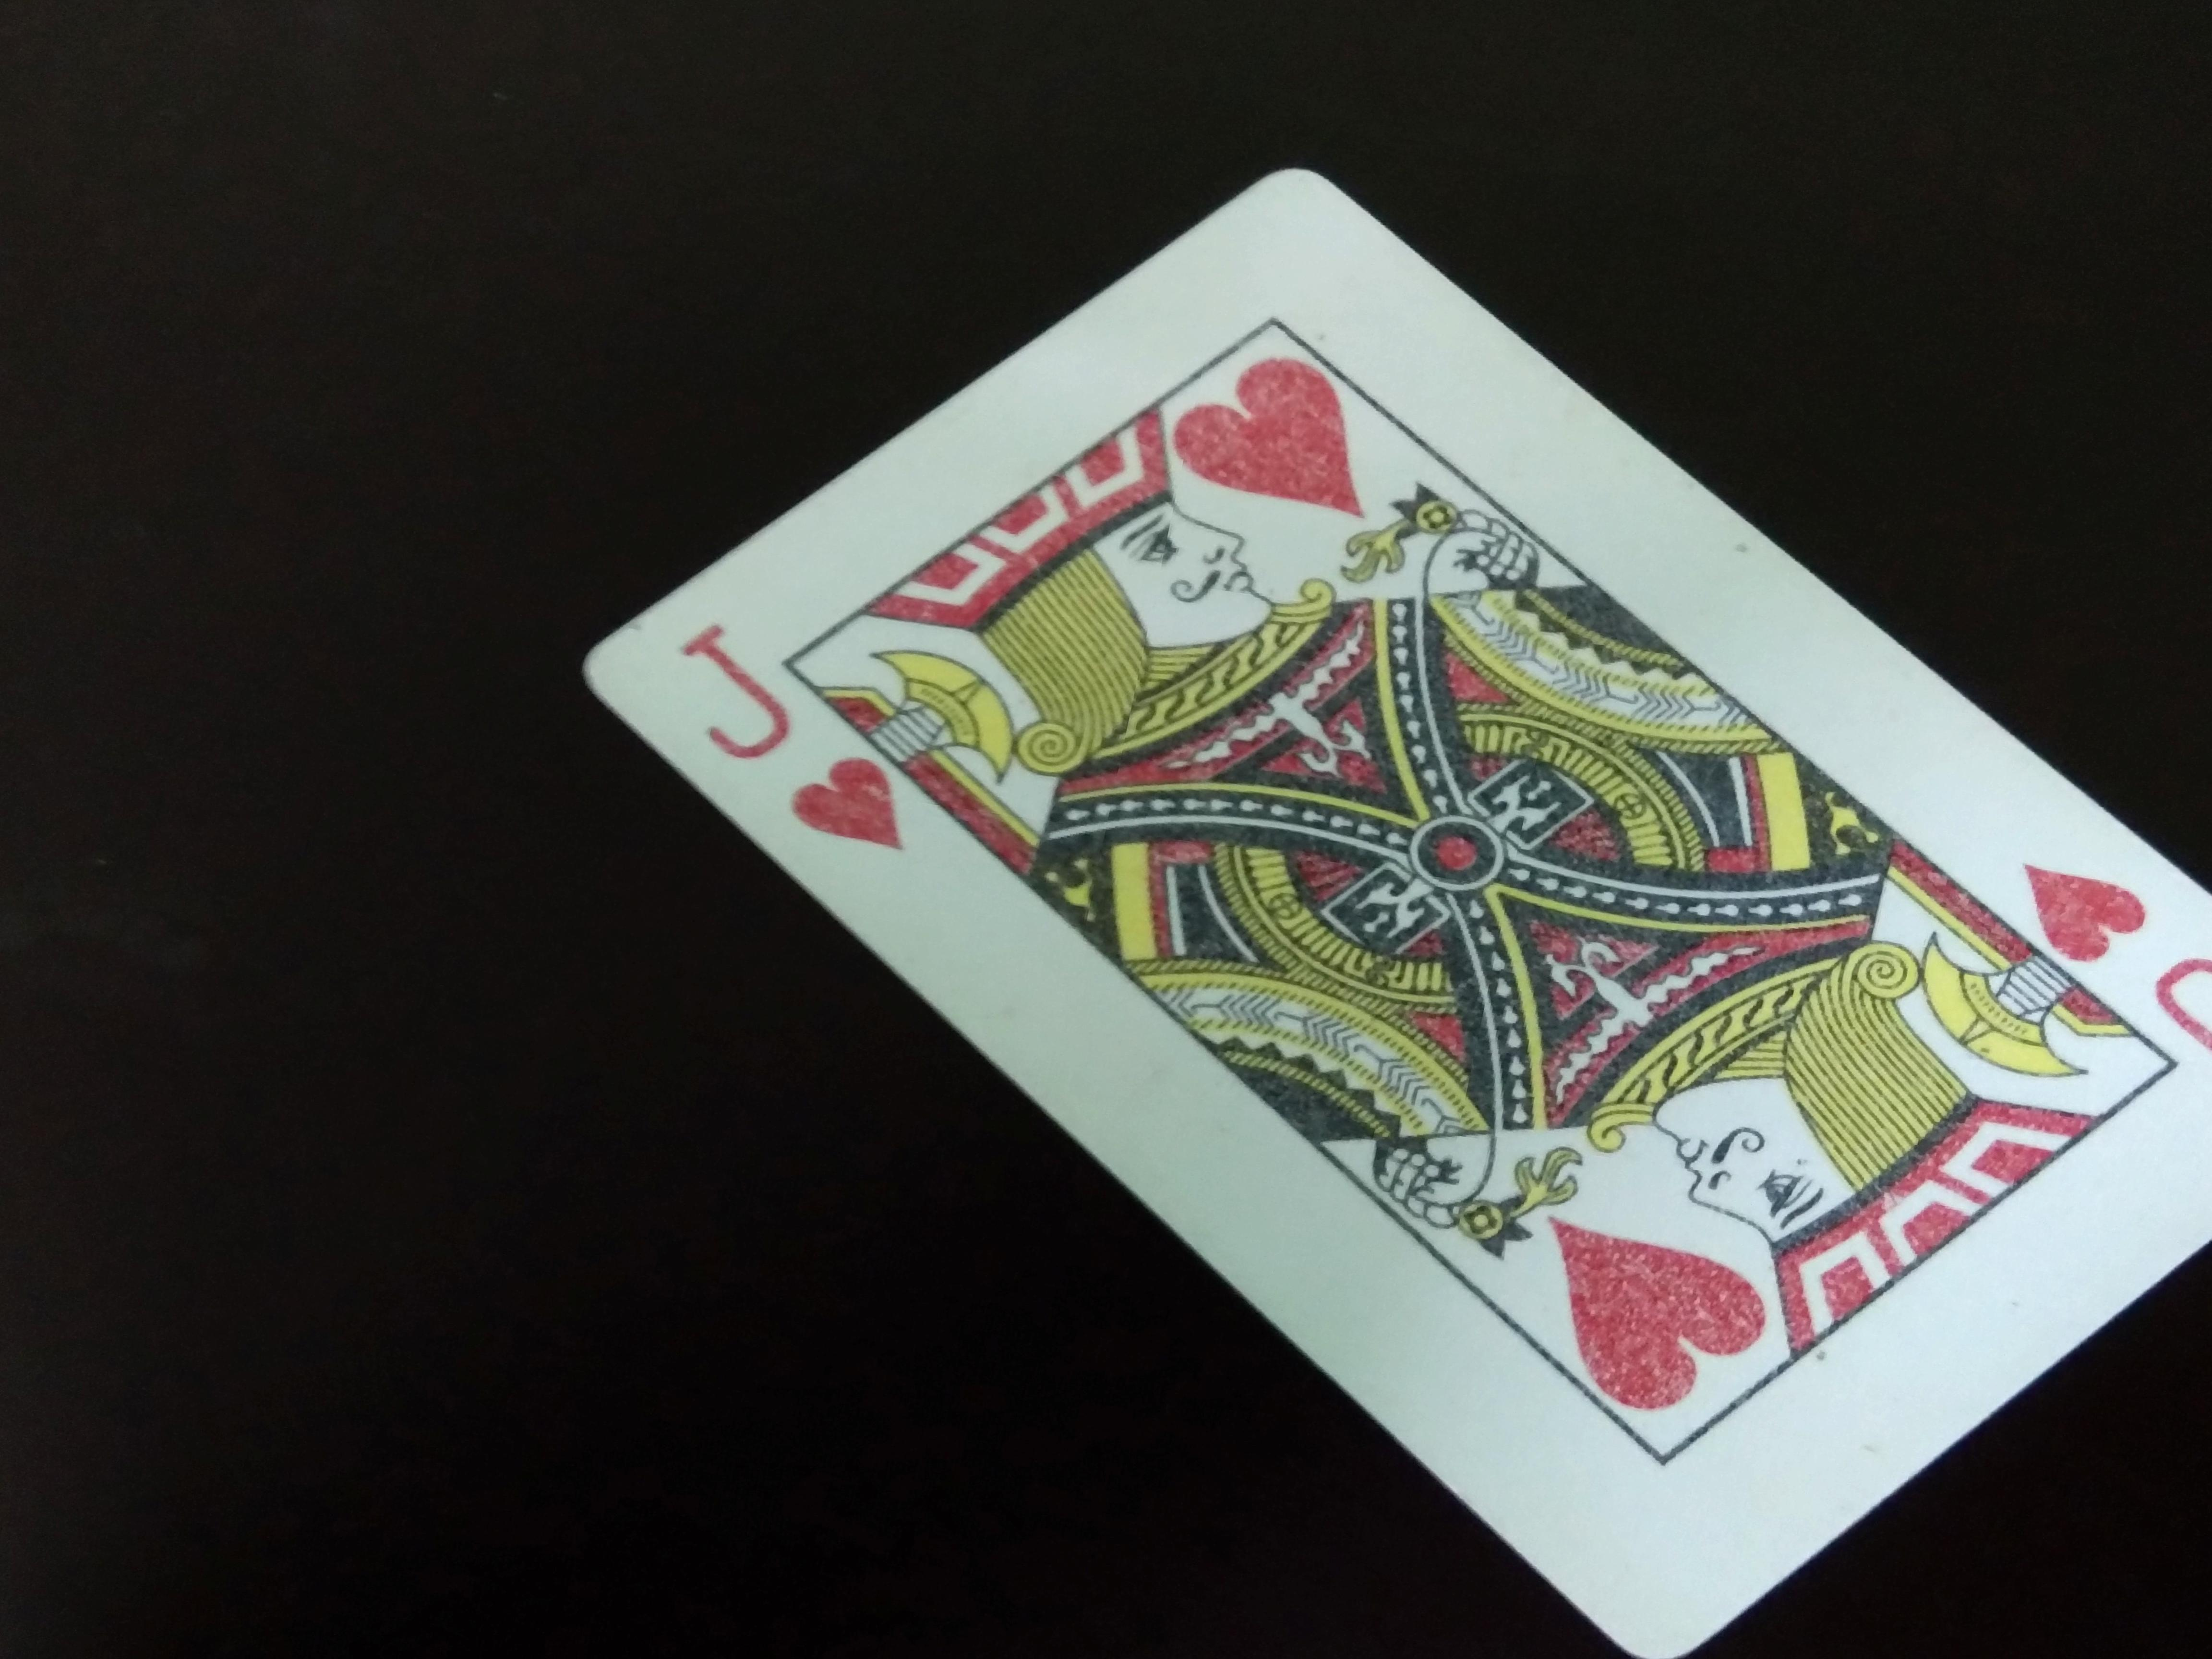JH: (683, 619, 909, 871)
